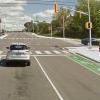Crosswalk: (33, 44, 79, 58)
